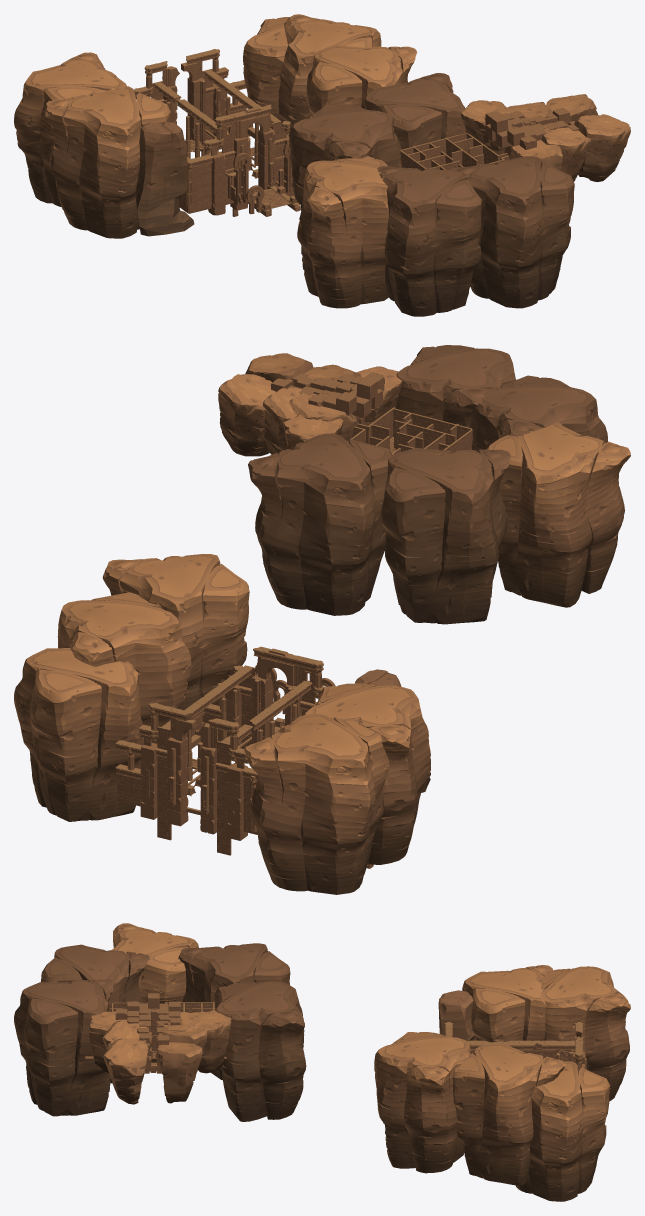
The picture shows the model from 3 angles, top to bottom: view 1: azimuth 30°, elevation 25°; view 2: azimuth 150°, elevation 25°; view 3: azimuth 270°, elevation 25°; orthographic projection. The views are drawn at different scales.
Visible parts, largest first — view 1: TFD_Canyon_Cliff_01B_LOD0, TFD_Canyon_Cliff_01B_LOD0_10, TFD_Canyon_Cliff_01A_LOD0_6, TFD_Canyon_Cliff_01A_LOD0_9, TFD_Canyon_Cliff_01A_LOD0_1, TFD_Canyon_Cliff_01B_LOD0_21, TFD_Canyon_Cliff_03B_LOD0, TFD_Canyon_Cliff_01A_LOD0_28, TFD_Canyon_Cliff_01B_LOD0_4, TFD_Canyon_Cliff_01A_LOD0_17, TFD_Canyon_Cliff_01A_LOD0_23, TFD_Rock_Large_15A_LOD0_1 (+6 smaller); view 2: TFD_Canyon_Cliff_01A_LOD0_1, TFD_Canyon_Cliff_01B_LOD0_4, TFD_Canyon_Cliff_01B_LOD0_21, TFD_Canyon_Cliff_01A_LOD0_9, TFD_Canyon_Cliff_01A_LOD0_23, TFD_Canyon_Cliff_01A_LOD0_28, TFD_Canyon_Cliff_01A_LOD0_17, TFD_Canyon_Cliff_01A_LOD0_6, TFD_Canyon_Cliff_01B_LOD0_10, TFD_Canyon_Cliff_01B_LOD0, TFD_Rock_Large_15A_LOD0_23, TFD_Rock_Large_15A_LOD0_26 (+4 smaller); view 3: TFD_Canyon_Cliff_01B_LOD0_4, TFD_Canyon_Cliff_01A_LOD0_28, TFD_Canyon_Cliff_01B_LOD0_10, TFD_Canyon_Cliff_01A_LOD0_17, TFD_Canyon_Cliff_01A_LOD0_23, TFD_Canyon_Cliff_01A_LOD0_1, TFD_Canyon_Cliff_01A_LOD0_6, TFD_Canyon_Cliff_01B_LOD0_21, TFD_Canyon_Cliff_01B_LOD0, TFD_Canyon_Cliff_01A_LOD0_9, TFD_Rock_Large_15A_LOD0_1, TFD_Rock_Large_15A_LOD0_23 (+6 smaller).
Boxes of the visible parts, x1,y1,x2,y2 form: TFD_Canyon_Cliff_01B_LOD0: (377, 166, 482, 316); TFD_Canyon_Cliff_01B_LOD0_10: (451, 156, 574, 308); TFD_Canyon_Cliff_01A_LOD0_6: (44, 86, 170, 238); TFD_Canyon_Cliff_01A_LOD0_9: (297, 156, 388, 308); TFD_Canyon_Cliff_01A_LOD0_1: (14, 52, 126, 206); TFD_Canyon_Cliff_01B_LOD0_21: (289, 105, 401, 210); TFD_Canyon_Cliff_03B_LOD0: (135, 122, 194, 236); TFD_Canyon_Cliff_01A_LOD0_28: (306, 45, 417, 115); TFD_Canyon_Cliff_01B_LOD0_4: (362, 73, 465, 149); TFD_Canyon_Cliff_01A_LOD0_17: (278, 14, 381, 132); TFD_Canyon_Cliff_01A_LOD0_23: (243, 17, 335, 134); TFD_Rock_Large_15A_LOD0_1: (574, 114, 630, 181); TFD_Canyon_Cliff_01A_LOD0_1: (244, 713, 389, 894); TFD_Canyon_Cliff_01B_LOD0_4: (248, 433, 392, 615); TFD_Canyon_Cliff_01B_LOD0_21: (380, 447, 511, 624); TFD_Canyon_Cliff_01A_LOD0_9: (486, 423, 630, 607); TFD_Canyon_Cliff_01A_LOD0_23: (14, 648, 143, 821); TFD_Canyon_Cliff_01A_LOD0_28: (102, 554, 249, 710); TFD_Canyon_Cliff_01A_LOD0_17: (57, 592, 191, 743); TFD_Canyon_Cliff_01A_LOD0_6: (304, 683, 430, 864); TFD_Canyon_Cliff_01B_LOD0_10: (395, 345, 516, 427); TFD_Canyon_Cliff_01B_LOD0: (469, 375, 607, 450); TFD_Rock_Large_15A_LOD0_23: (218, 374, 276, 456); TFD_Rock_Large_15A_LOD0_26: (262, 388, 302, 454); TFD_Canyon_Cliff_01B_LOD0_4: (214, 981, 306, 1121); TFD_Canyon_Cliff_01A_LOD0_28: (374, 1032, 471, 1173); TFD_Canyon_Cliff_01B_LOD0_10: (14, 978, 113, 1116); TFD_Canyon_Cliff_01A_LOD0_17: (452, 1044, 565, 1185); TFD_Canyon_Cliff_01A_LOD0_23: (515, 1061, 610, 1201); TFD_Canyon_Cliff_01A_LOD0_1: (539, 966, 630, 1101); TFD_Canyon_Cliff_01A_LOD0_6: (462, 965, 552, 1042); TFD_Canyon_Cliff_01B_LOD0_21: (178, 943, 290, 1080); TFD_Canyon_Cliff_01B_LOD0: (41, 944, 149, 1083); TFD_Canyon_Cliff_01A_LOD0_9: (111, 923, 198, 1062); TFD_Rock_Large_15A_LOD0_1: (103, 1038, 148, 1104); TFD_Rock_Large_15A_LOD0_23: (157, 1042, 202, 1103).
Size of what is drawn, in the model's own units: 129 by 72.14 by 209.
Materials: 1 (1 with a texture image).
